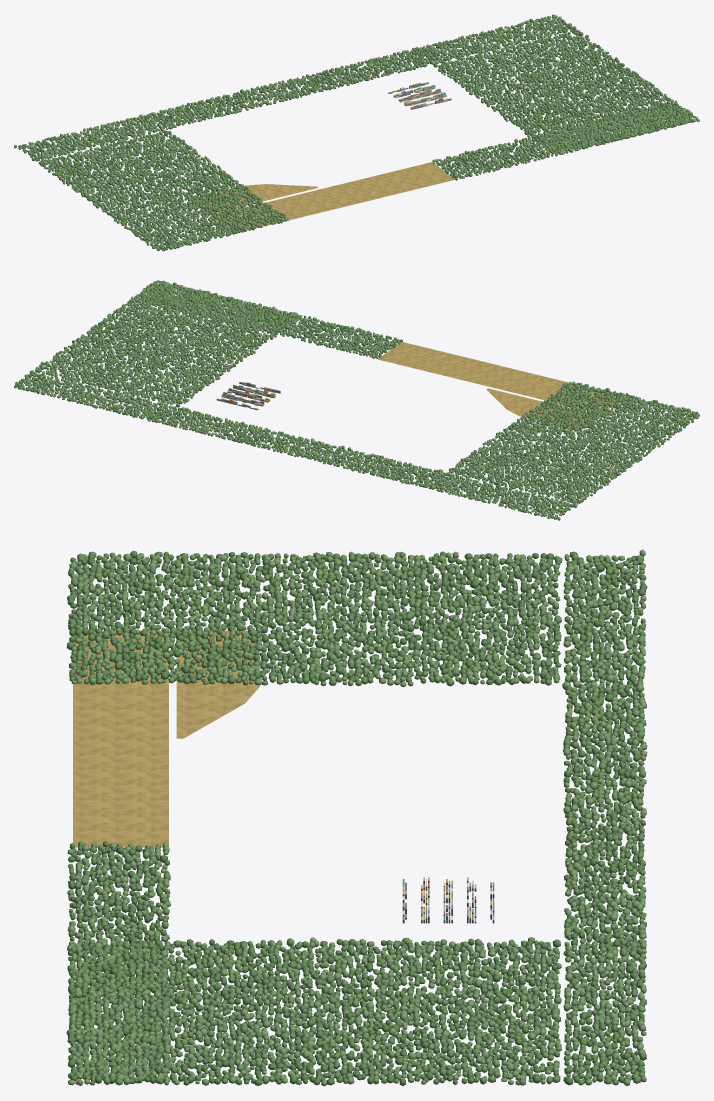
The model's file is entorno.glb.
3 views of the same model, one above another, from view 1: azimuth 30°, elevation 25°; view 2: azimuth 150°, elevation 25°; view 3: azimuth 270°, elevation 25° (orthographic). The views are drawn at different scales.
Visible parts, largest first — view 1: Entorno_Floresta_2, Entorno_Floresta_1, Entorno_Floresta_3, Entorno_Lavoura, Entorno_Floresta_4, Conteineres_Empilhados; view 2: Entorno_Floresta_2, Entorno_Floresta_1, Entorno_Floresta_3, Entorno_Lavoura, Entorno_Floresta_4, Conteineres_Empilhados; view 3: Entorno_Floresta_2, Entorno_Floresta_1, Entorno_Floresta_3, Entorno_Lavoura, Entorno_Floresta_4, Conteineres_Empilhados.
Part boxes in pixels (x1=…): Entorno_Floresta_2: x1=433, y1=29, x2=697, y2=156; Entorno_Floresta_1: x1=38, y1=130, x2=288, y2=251; Entorno_Floresta_3: x1=14, y1=14, x2=576, y2=161; Entorno_Lavoura: x1=194, y1=162, x2=455, y2=232; Entorno_Floresta_4: x1=432, y1=100, x2=699, y2=180; Conteineres_Empilhados: x1=388, y1=82, x2=451, y2=109; Entorno_Floresta_2: x1=35, y1=281, x2=302, y2=407; Entorno_Floresta_1: x1=449, y1=381, x2=699, y2=504; Entorno_Floresta_3: x1=14, y1=370, x2=577, y2=520; Entorno_Lavoura: x1=377, y1=342, x2=624, y2=430; Entorno_Floresta_4: x1=131, y1=280, x2=402, y2=358; Conteineres_Empilhados: x1=216, y1=382, x2=280, y2=410; Entorno_Floresta_2: x1=66, y1=937, x2=561, y2=1086; Entorno_Floresta_1: x1=66, y1=550, x2=562, y2=687; Entorno_Floresta_3: x1=562, y1=549, x2=647, y2=1085; Entorno_Lavoura: x1=73, y1=630, x2=259, y2=847; Entorno_Floresta_4: x1=67, y1=841, x2=171, y2=1085; Conteineres_Empilhados: x1=402, y1=877, x2=494, y2=923.
Size of the model in its own units: 1682 by 15.97 by 777.
Materials: 11 (1 with a texture image).
